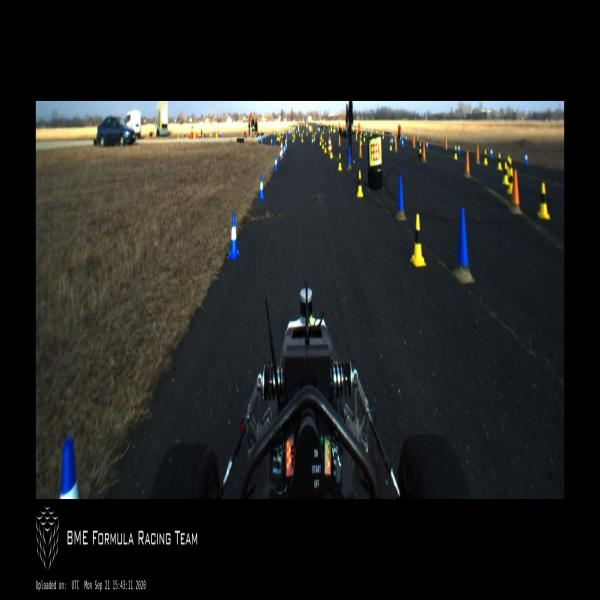blue_cone: (58, 436, 78, 497), (226, 212, 240, 261), (258, 174, 265, 200), (274, 156, 278, 172), (524, 150, 528, 164), (279, 149, 282, 162), (457, 142, 460, 155), (401, 138, 404, 148), (391, 136, 394, 146), (490, 146, 492, 160), (284, 144, 286, 156), (426, 139, 428, 151), (399, 134, 402, 142), (270, 136, 272, 145), (401, 134, 404, 140), (406, 135, 408, 143), (392, 131, 394, 139), (261, 137, 263, 144)
large_orange_cone: (280, 138, 284, 158), (328, 136, 330, 156)
yellow_cone: (411, 214, 427, 268), (537, 182, 550, 219), (502, 162, 510, 186), (507, 168, 514, 195), (357, 172, 363, 198), (497, 153, 502, 170), (484, 148, 488, 166), (508, 158, 512, 176), (338, 154, 342, 170), (454, 146, 458, 160), (419, 141, 422, 153), (285, 134, 288, 146), (330, 144, 332, 159), (301, 134, 304, 143), (360, 137, 363, 146), (292, 131, 294, 144), (324, 141, 326, 153), (322, 138, 324, 150), (390, 139, 392, 151), (382, 130, 384, 140), (319, 137, 321, 146), (312, 134, 314, 143), (363, 133, 365, 141), (276, 133, 278, 141), (366, 128, 368, 136), (370, 130, 372, 137), (360, 134, 362, 140), (279, 134, 280, 142), (278, 134, 279, 141), (329, 127, 330, 133), (323, 128, 324, 134)
